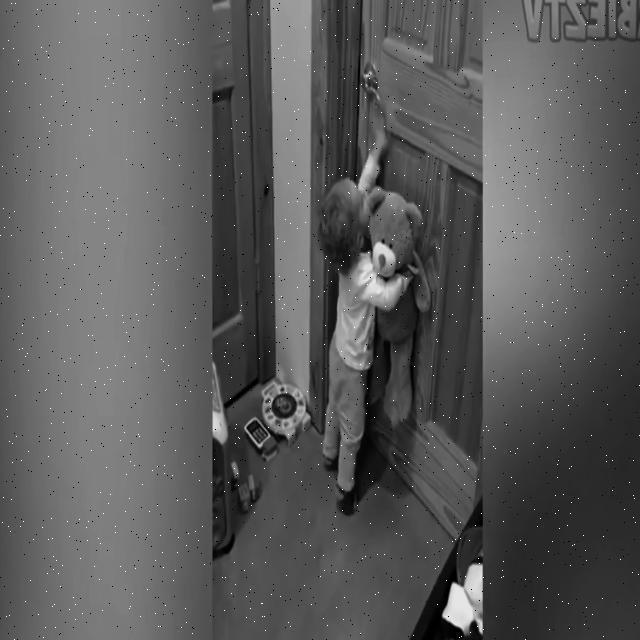child: (318, 85, 417, 518)
